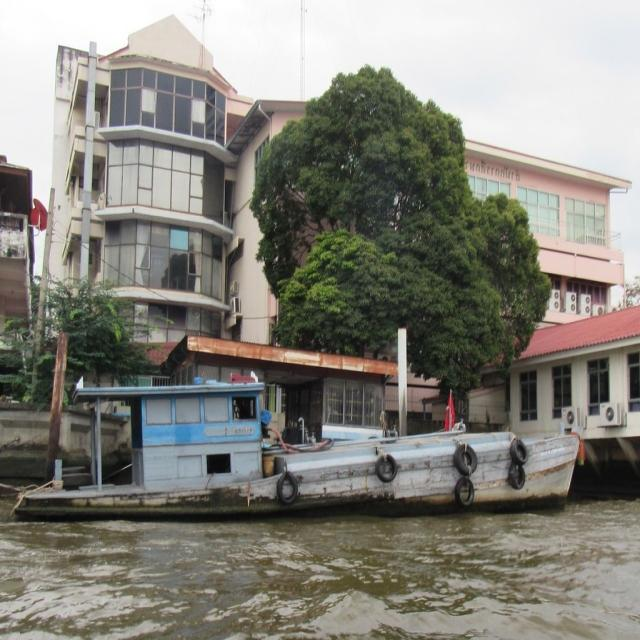boat: (32, 381, 602, 520)
